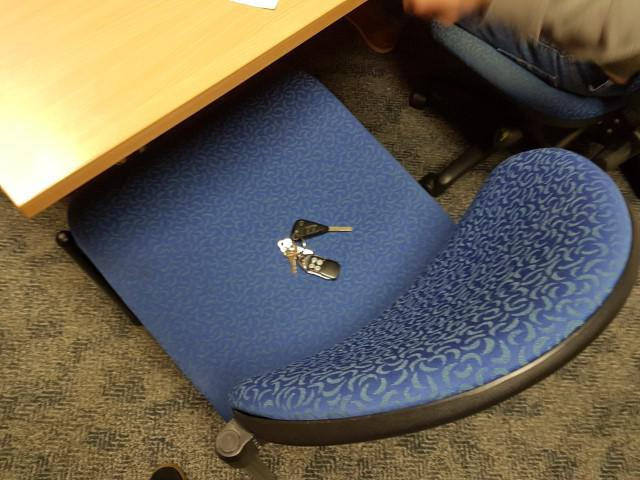key: (290, 220, 353, 241)
